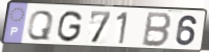1: (115, 12, 129, 46)
6: (175, 14, 199, 48)
7: (88, 10, 113, 45)
B: (141, 11, 174, 49)
G: (55, 9, 84, 44)
Q: (25, 9, 56, 42)
